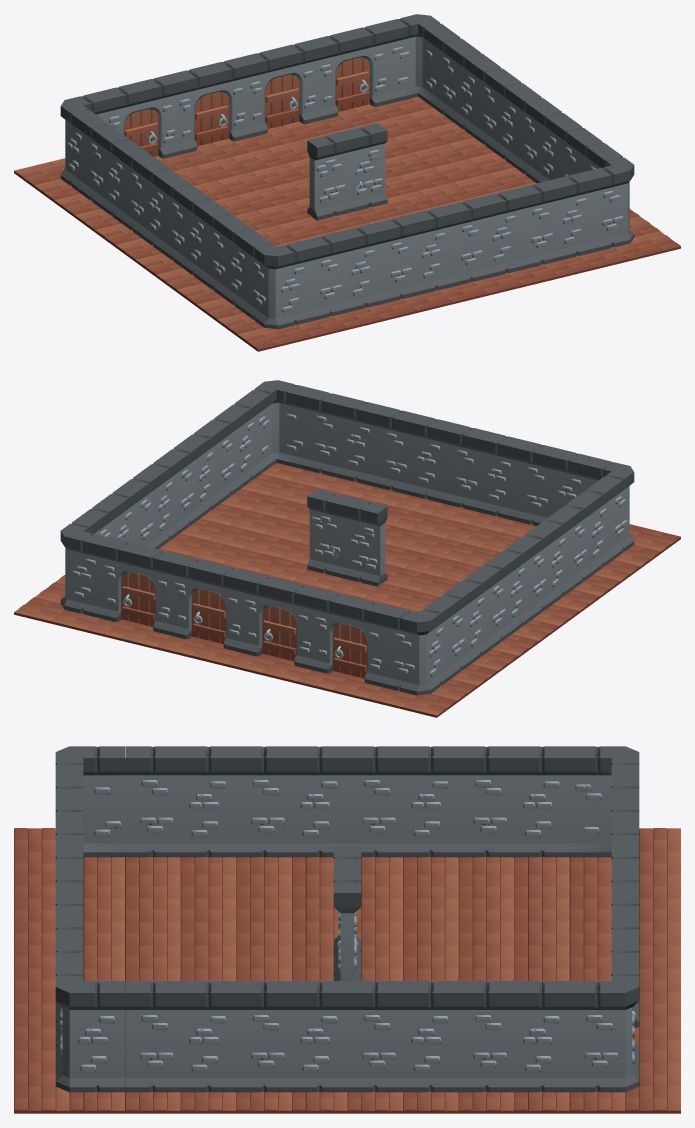
3 views of the same model, one above another, from view 1: azimuth 30°, elevation 25°; view 2: azimuth 150°, elevation 25°; view 3: azimuth 270°, elevation 25° (orthographic). The views are drawn at different scales.
Visible parts, largest first — view 1: wall (×13), floor_wood_large (×29), wall_doorway (×5), wall_corner (×4), wall_doorway_door (×4); view 2: wall (×13), floor_wood_large (×29), wall_doorway (×5), wall_corner (×4), wall_doorway_door (×4); view 3: wall (×13), floor_wood_large (×33), wall_corner (×4), wall_doorway (×4).
Boxes of the visible parts, x1,y1,x2,y2 form: wall (×13): (81, 30, 613, 320); floor_wood_large (×29): (14, 103, 680, 351); wall_doorway (×5): (100, 23, 391, 216); wall_corner (×4): (60, 14, 634, 329); wall_doorway_door (×4): (124, 57, 369, 156); wall (×13): (81, 389, 613, 678); floor_wood_large (×29): (14, 469, 680, 717); wall_doorway (×5): (99, 491, 391, 686); wall_corner (×4): (60, 380, 634, 695); wall_doorway_door (×4): (121, 572, 367, 678); wall (×13): (55, 746, 569, 1092); floor_wood_large (×33): (14, 828, 680, 1113); wall_corner (×4): (55, 746, 639, 1092); wall_doorway (×4): (611, 775, 639, 1057).
Bounding box in the file's own units: 24 × 4.1 × 24.
4 materials, 4 textured.
